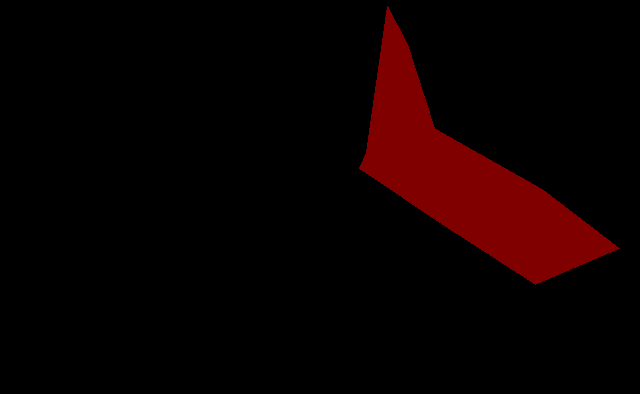fire: (359, 6, 619, 284)
